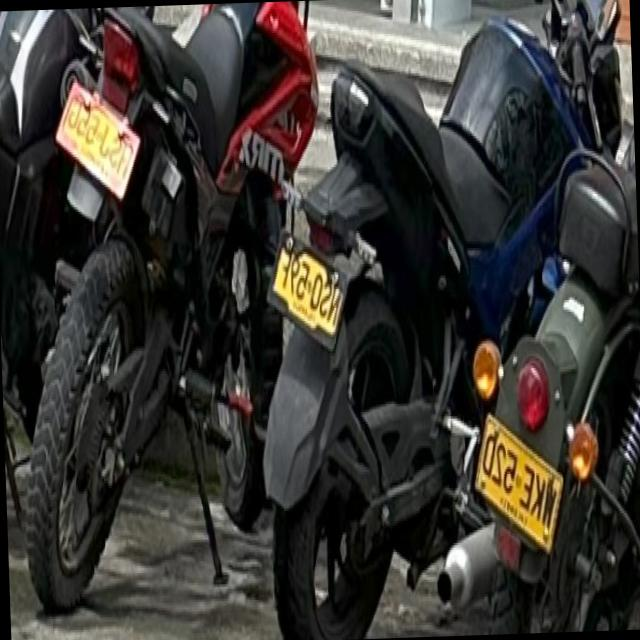number plate: (478, 412, 564, 549), (57, 80, 141, 196), (274, 235, 345, 336)
